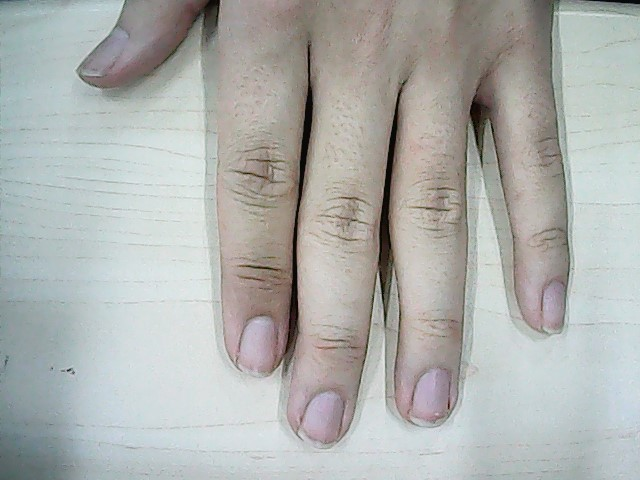nail: (297, 385, 345, 450), (74, 24, 131, 78), (406, 364, 452, 428), (235, 314, 279, 379), (541, 280, 568, 333)
